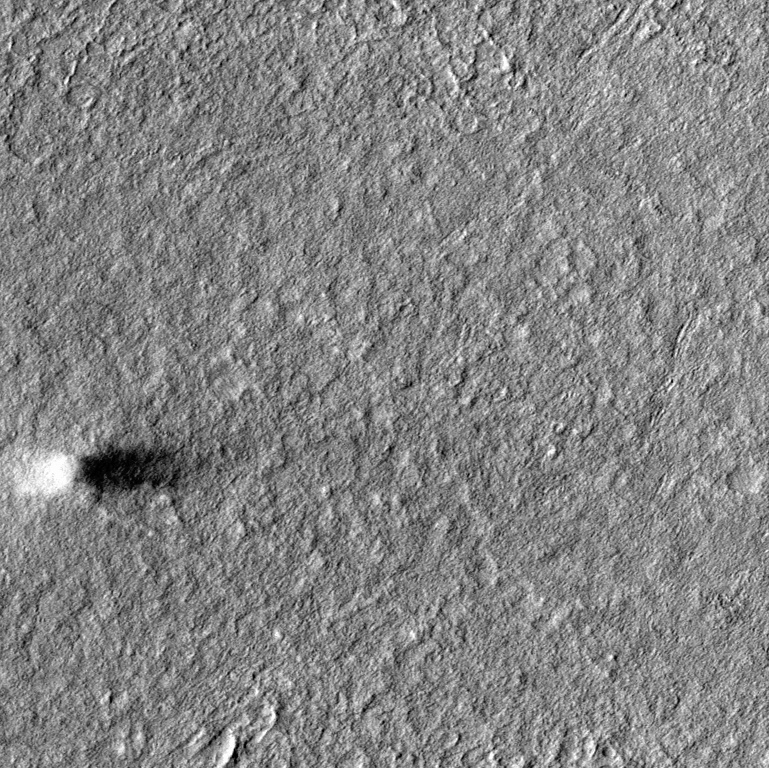dust_devil: (13, 441, 186, 503)
